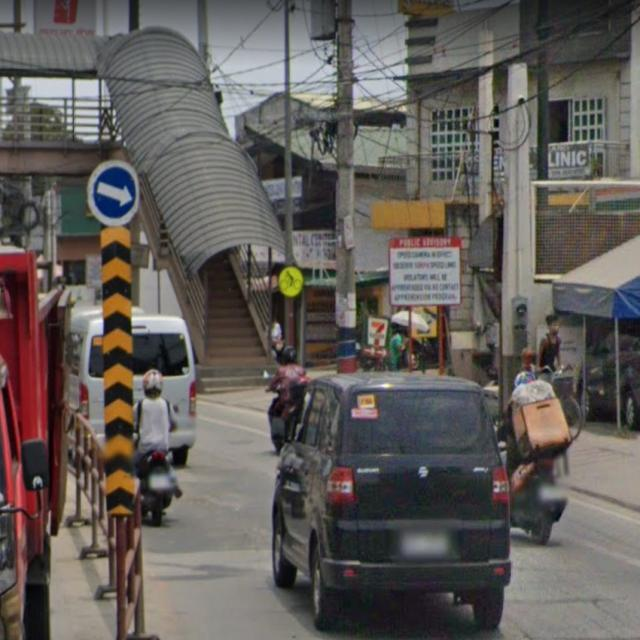keep right: (86, 159, 139, 226)
